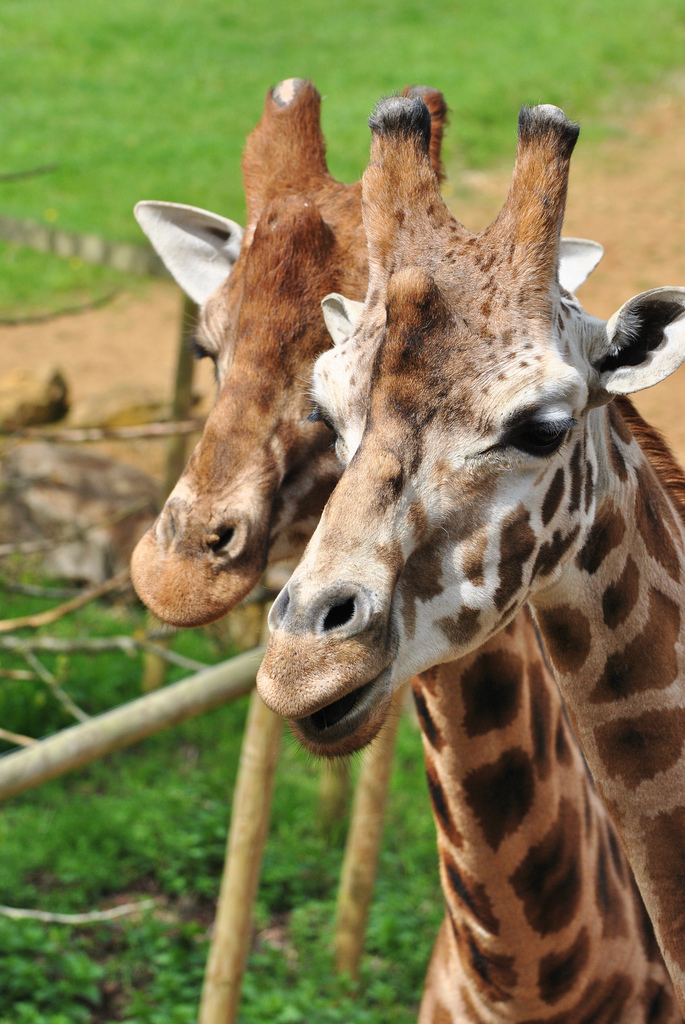giraffe: (281, 69, 661, 992), (76, 80, 469, 646)
